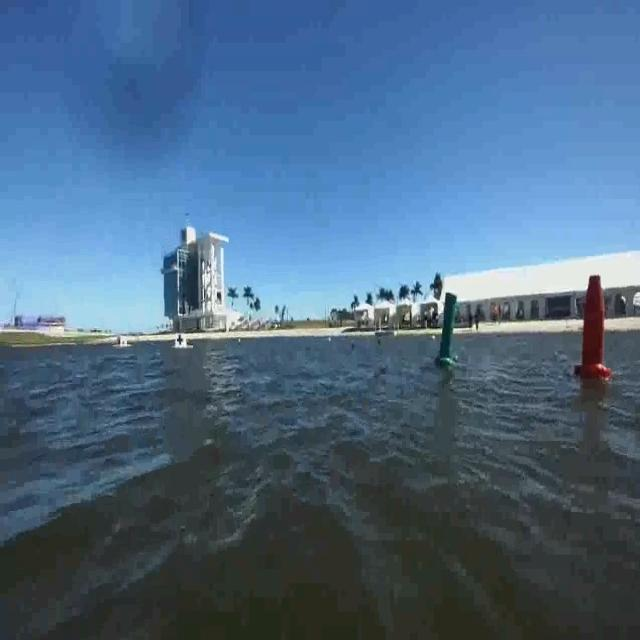green-column-buoy: (436, 290, 461, 367)
red-column-buoy: (575, 273, 612, 379)
